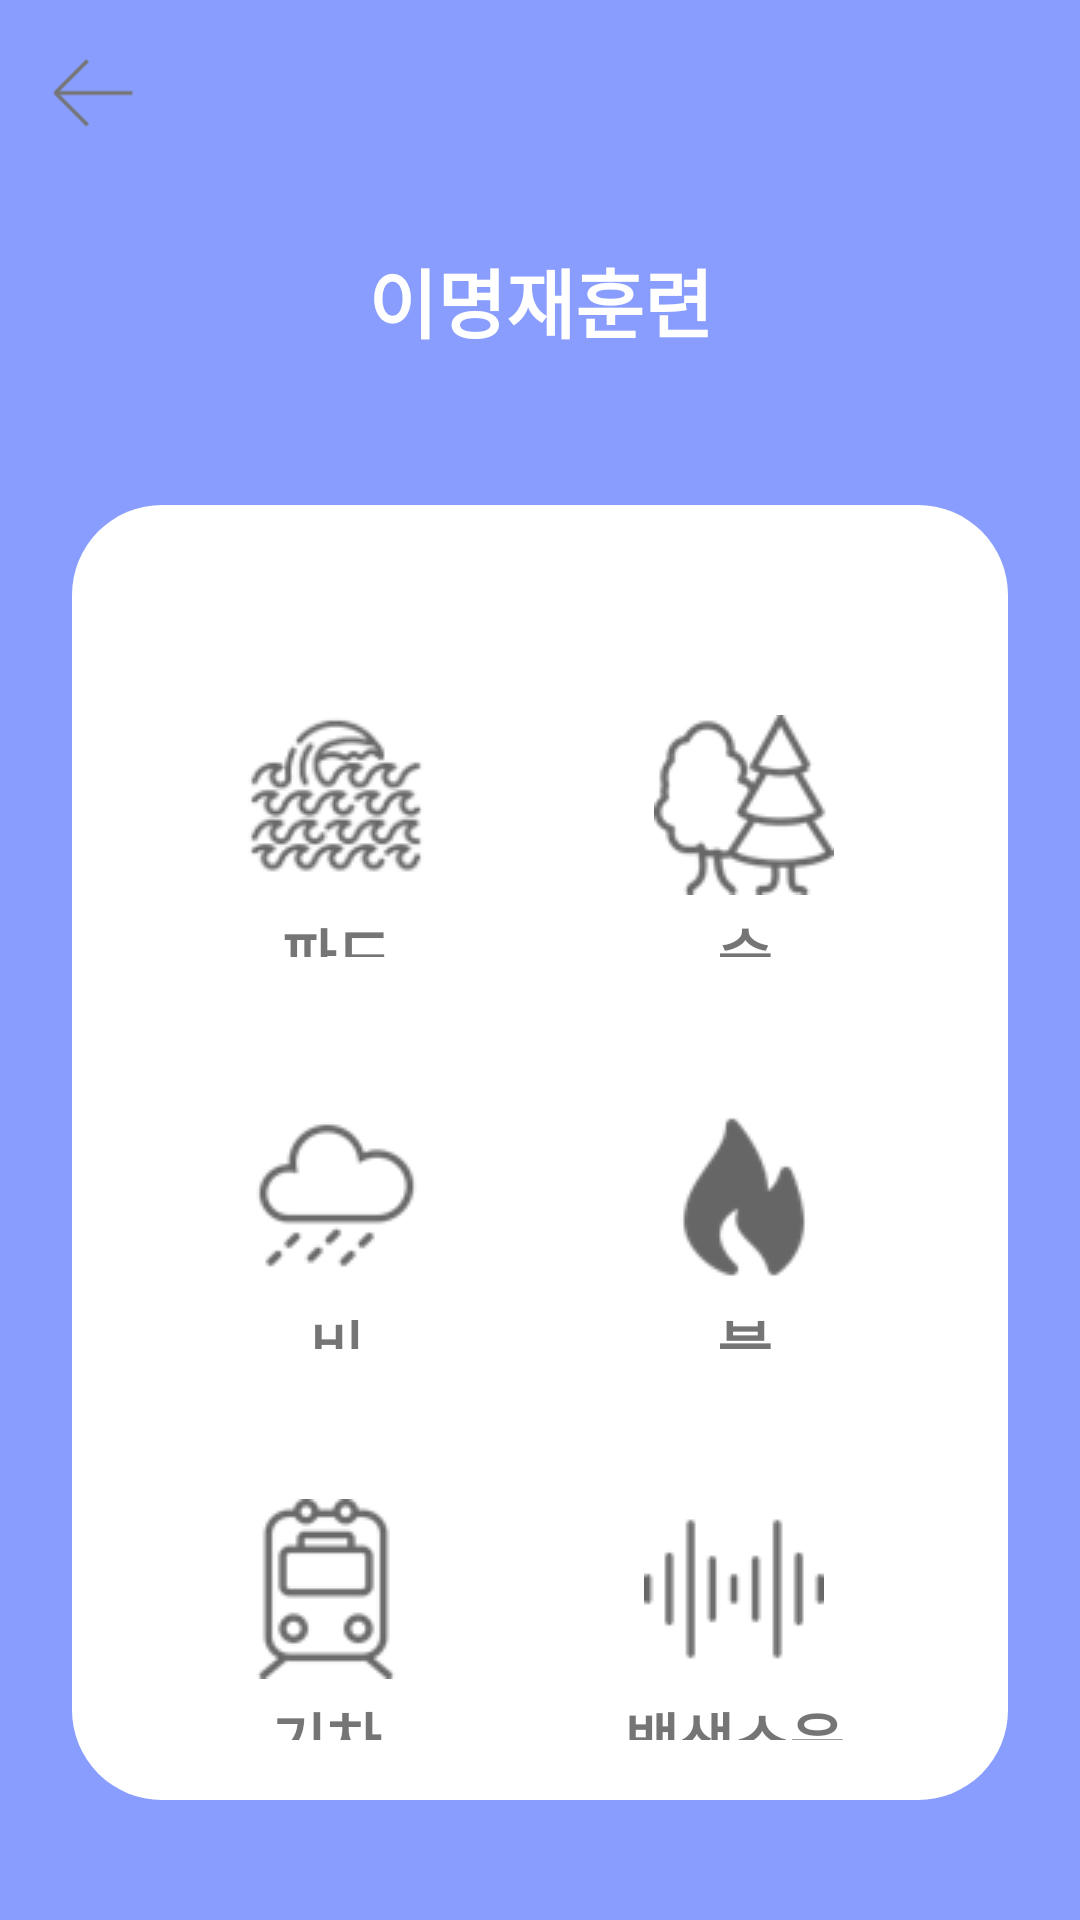

Named icons in this screenshot (1080 x 1920) and their centers, (x=x, y=y):
pageback: (x=93, y=93)
